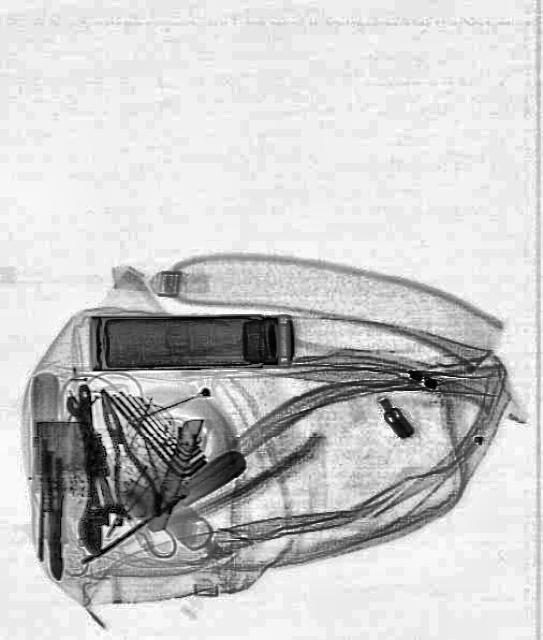Pliers: (80, 377, 166, 528), (37, 450, 68, 580)
Wrench: (55, 388, 124, 532), (66, 380, 110, 556)
